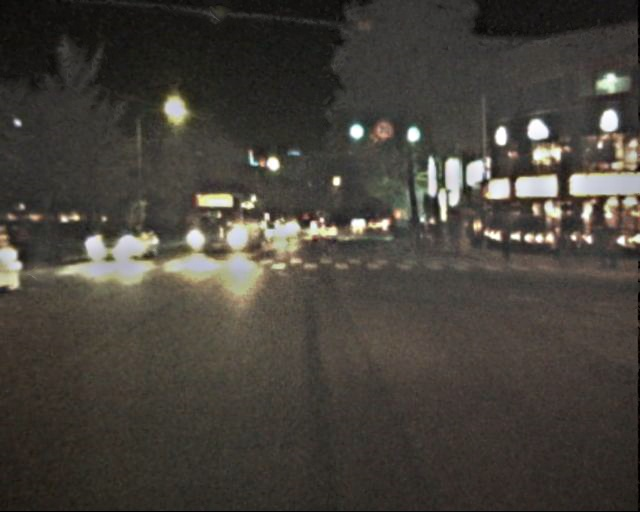person: (587, 223, 612, 273), (497, 222, 515, 265), (545, 230, 565, 268)
